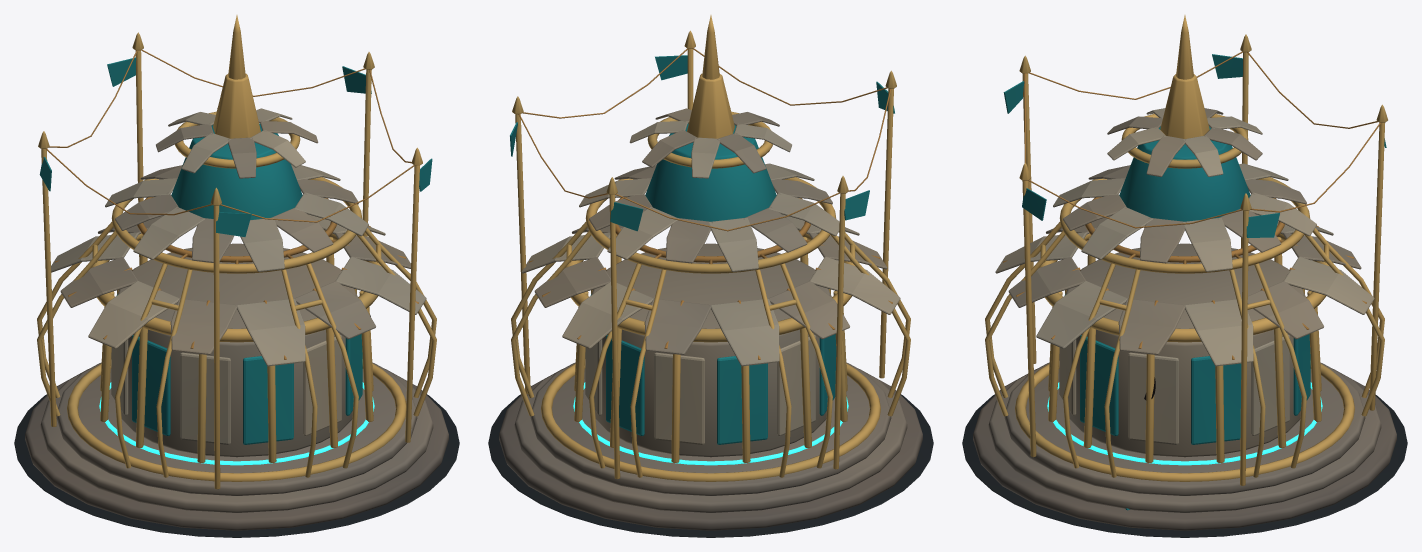
The model's file is sunwoven_civilization_core.glb.
The picture shows the model from 3 angles, left to right: view 1: azimuth 30°, elevation 25°; view 2: azimuth 150°, elevation 25°; view 3: azimuth 270°, elevation 25°; orthographic projection.
Parts seen in each view (by area): view 1: core_inner_drum, core_plinth_03, core_plinth_01, core_plinth_02, core_crown_drum, core_contact_pad, core_walkway_kerb, core_drum_panel_08, core_drum_panel_07, core_lower_petal_08, core_lower_petal_06, core_solar_wheel_outer (+51 smaller); view 2: core_inner_drum, core_plinth_03, core_plinth_01, core_plinth_02, core_crown_drum, core_contact_pad, core_walkway_kerb, core_drum_panel_03, core_drum_panel_04, core_lower_petal_04, core_lower_petal_03, core_solar_wheel_outer (+49 smaller); view 3: core_plinth_03, core_inner_drum, core_plinth_01, core_plinth_02, core_crown_drum, core_contact_pad, core_walkway_kerb, core_drum_panel_11, core_drum_panel_00, core_lower_petal_00, core_lower_petal_10, core_lower_petal_11 (+50 smaller).
Part boxes in pixels (x1,y1,x2,y2): core_inner_drum: (117, 243, 356, 457); core_plinth_03: (56, 362, 417, 495); core_plinth_01: (25, 369, 448, 530); core_plinth_02: (40, 363, 433, 512); core_crown_drum: (171, 123, 302, 219); core_contact_pad: (14, 394, 459, 537); core_walkway_kerb: (67, 359, 406, 481); core_drum_panel_08: (243, 356, 293, 444); core_drum_panel_07: (180, 352, 230, 444); core_lower_petal_08: (236, 298, 305, 366); core_lower_petal_06: (88, 281, 179, 348); core_solar_wheel_outer: (111, 177, 362, 273); core_inner_drum: (591, 243, 830, 457); core_plinth_03: (530, 362, 891, 495); core_plinth_01: (499, 369, 922, 530); core_plinth_02: (514, 363, 907, 512); core_crown_drum: (645, 123, 776, 221); core_contact_pad: (488, 394, 933, 537); core_walkway_kerb: (541, 359, 880, 481); core_drum_panel_03: (654, 352, 704, 444); core_drum_panel_04: (717, 356, 767, 444); core_lower_petal_04: (710, 298, 779, 366); core_lower_petal_03: (644, 298, 710, 354); core_solar_wheel_outer: (585, 177, 836, 273); core_plinth_03: (1004, 362, 1365, 495); core_inner_drum: (1065, 243, 1304, 457); core_plinth_01: (973, 369, 1396, 530); core_plinth_02: (988, 363, 1381, 512); core_crown_drum: (1119, 126, 1250, 221); core_contact_pad: (962, 394, 1407, 537); core_walkway_kerb: (1015, 361, 1354, 481); core_drum_panel_11: (1128, 352, 1178, 444); core_drum_panel_00: (1191, 356, 1241, 444); core_lower_petal_00: (1184, 298, 1253, 366); core_lower_petal_10: (1036, 281, 1127, 348); core_lower_petal_11: (1118, 298, 1184, 354).
Size of the model in its own units: 11.24 by 11.97 by 11.24.
